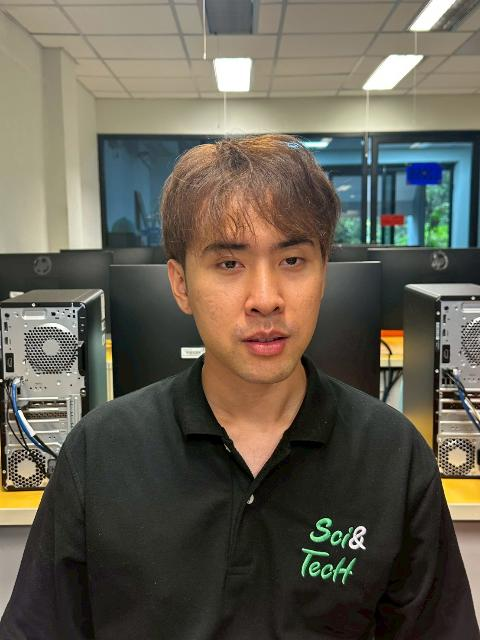fokus: (185, 174, 324, 380)
